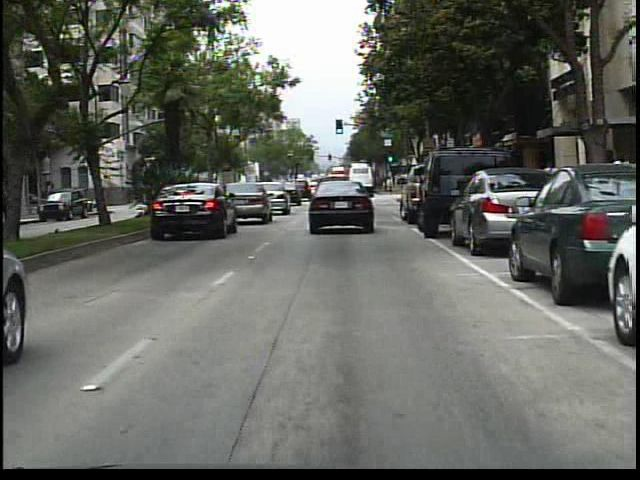person: (607, 150, 634, 230), (538, 156, 559, 215)
